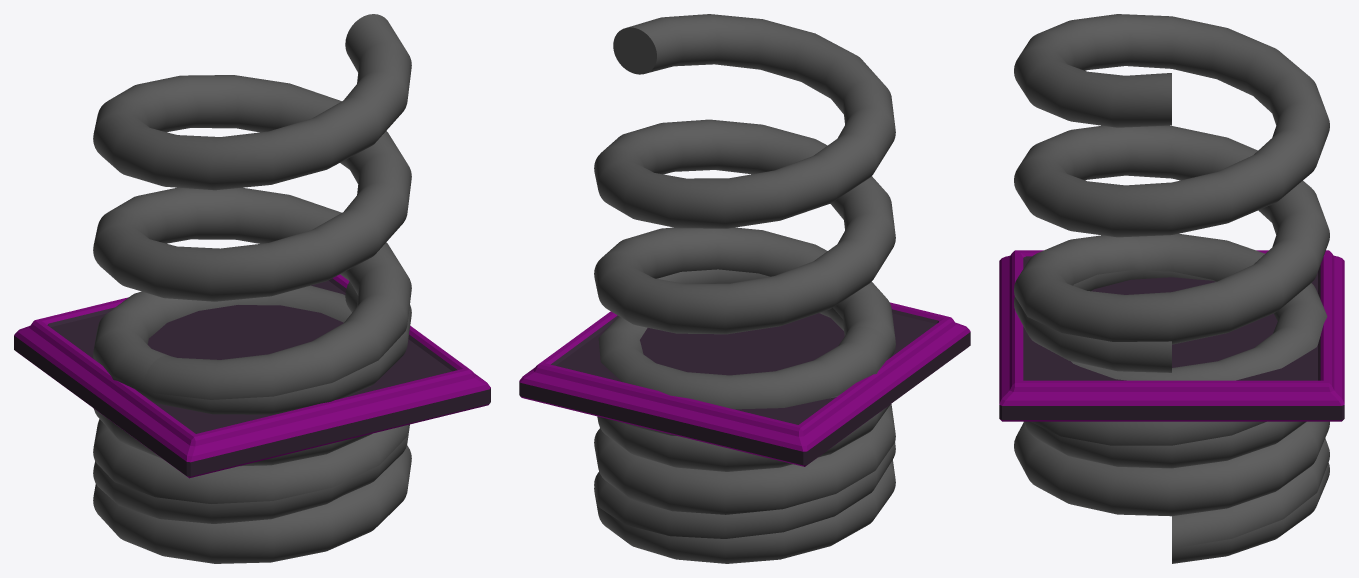
File: Spring Trap.fbx
3 views of the same model, side by side, from view 1: azimuth 30°, elevation 25°; view 2: azimuth 150°, elevation 25°; view 3: azimuth 270°, elevation 25° (orthographic). The views are drawn at different scales.
Parts seen in each view (by area): view 1: Spring Sprung, Spring Coiled, Base; view 2: Spring Sprung, Spring Coiled, Base; view 3: Spring Sprung, Spring Coiled, Base.
Boxes of the visible parts, x1,y1,x2,y2 form: Spring Sprung: (93, 14, 411, 523); Spring Coiled: (93, 281, 411, 563); Base: (14, 274, 490, 478); Spring Sprung: (594, 14, 895, 538); Spring Coiled: (594, 269, 895, 563); Base: (519, 302, 970, 466); Spring Sprung: (1014, 14, 1329, 548); Spring Coiled: (1014, 233, 1329, 563); Base: (999, 250, 1344, 421).
Bounding box in the file's own units: 200 × 311 × 200.
